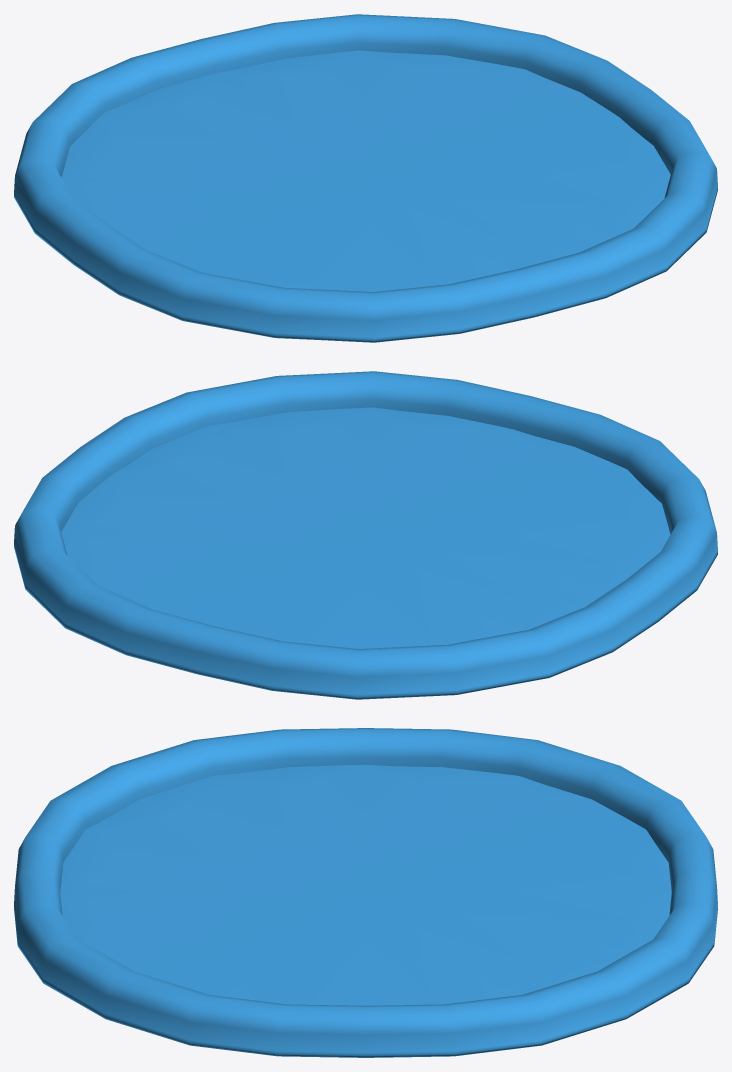
File: SocialWorldPlatform.glb
3 views of the same model, one above another, from view 1: azimuth 30°, elevation 25°; view 2: azimuth 150°, elevation 25°; view 3: azimuth 270°, elevation 25° (orthographic). The views are drawn at different scales.
Parts seen in each view (by area): view 1: Cube; view 2: Cube; view 3: Cube.
Boxes of the visible parts, x1,y1,x2,y2 form: Cube: (14,14,717,342); Cube: (14,371,717,699); Cube: (14,728,717,1057).
Bounding box in the file's own units: 20 × 1.3 × 20.
